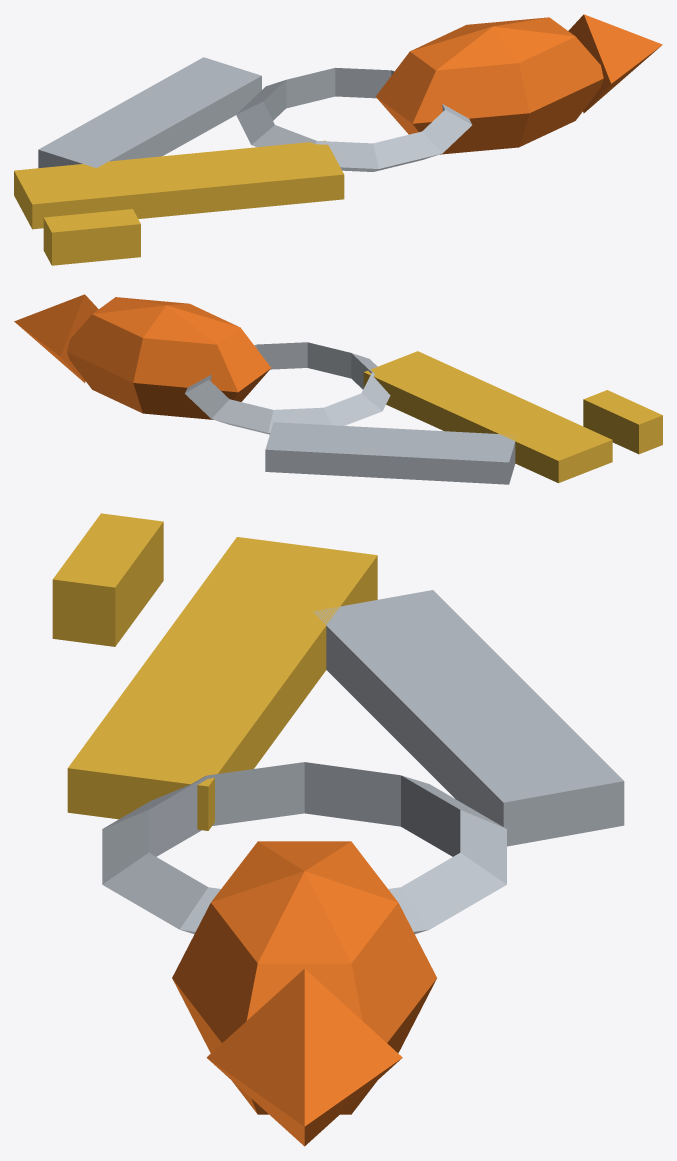
Rendered from keys.fbx.
The picture shows the model from 3 angles, top to bottom: view 1: azimuth 30°, elevation 25°; view 2: azimuth 150°, elevation 25°; view 3: azimuth 270°, elevation 25°; orthographic projection. The views are drawn at different scales.
Visible parts, largest first — view 1: keys; view 2: keys; view 3: keys.
Part boxes in pixels (left/top/right/bottom): keys: left=14, top=14, right=662, bottom=265; keys: left=14, top=294, right=662, bottom=484; keys: left=52, top=513, right=624, bottom=1146.
Bounding box in the file's own units: 0.6749 × 0.1152 × 0.2793.
